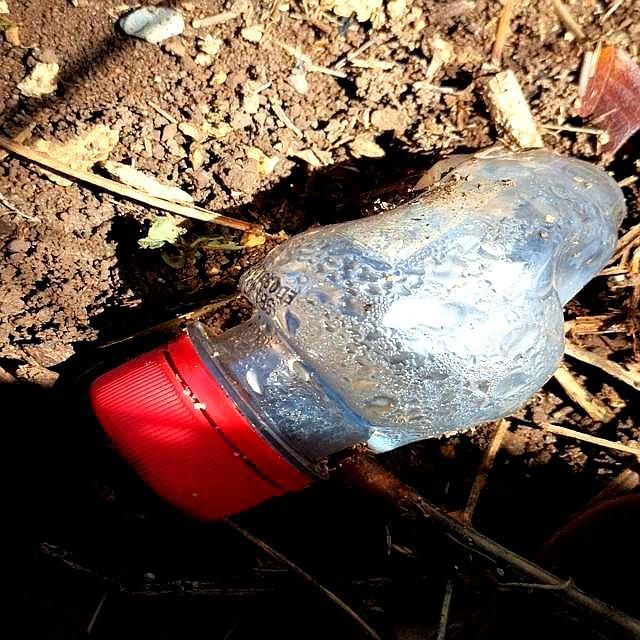Non-biodegradable: (69, 129, 640, 577)
